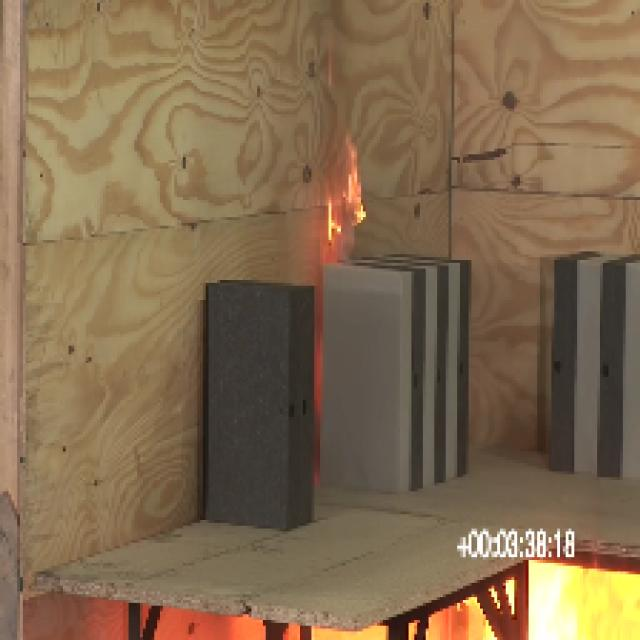fire: (532, 559, 584, 640), (327, 156, 363, 256)
